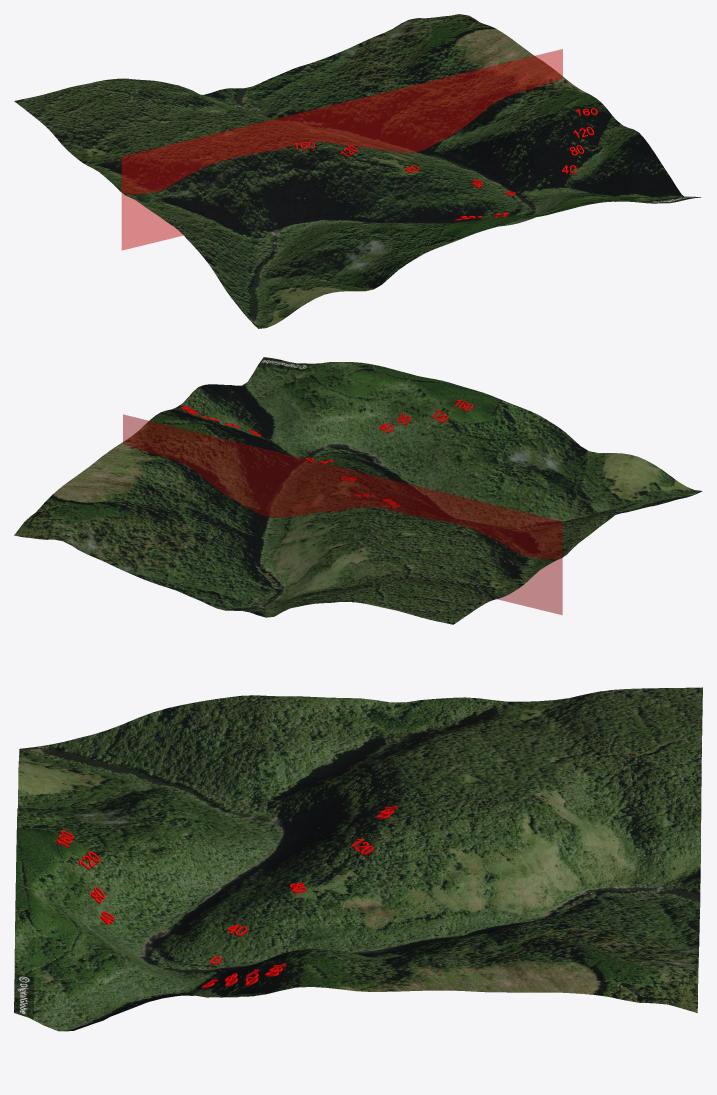
The model's file is SaoJoseAusentes2Nc1.glb.
The picture shows the model from 3 angles, top to bottom: view 1: azimuth 30°, elevation 25°; view 2: azimuth 150°, elevation 25°; view 3: azimuth 270°, elevation 25°; orthographic projection. The views are drawn at different scales.
Visible parts, largest first — view 1: Location Terrain, root; view 2: Location Terrain, root; view 3: Location Terrain.
Boxes of the visible parts, left/top/right/bottom form: Location Terrain: left=14, top=14, right=700, bottom=328; root: left=121, top=49, right=562, bottom=250; Location Terrain: left=14, top=357, right=702, bottom=624; root: left=123, top=414, right=562, bottom=614; Location Terrain: left=14, top=687, right=702, bottom=1031.
Size of the model in its own units: 2014 by 406 by 1950.
Materials: 3 (1 with a texture image).
